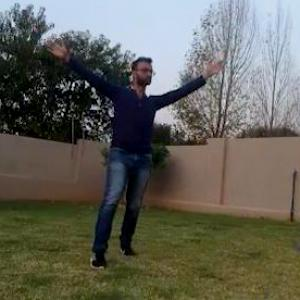takeoff: (46, 27, 226, 269)
